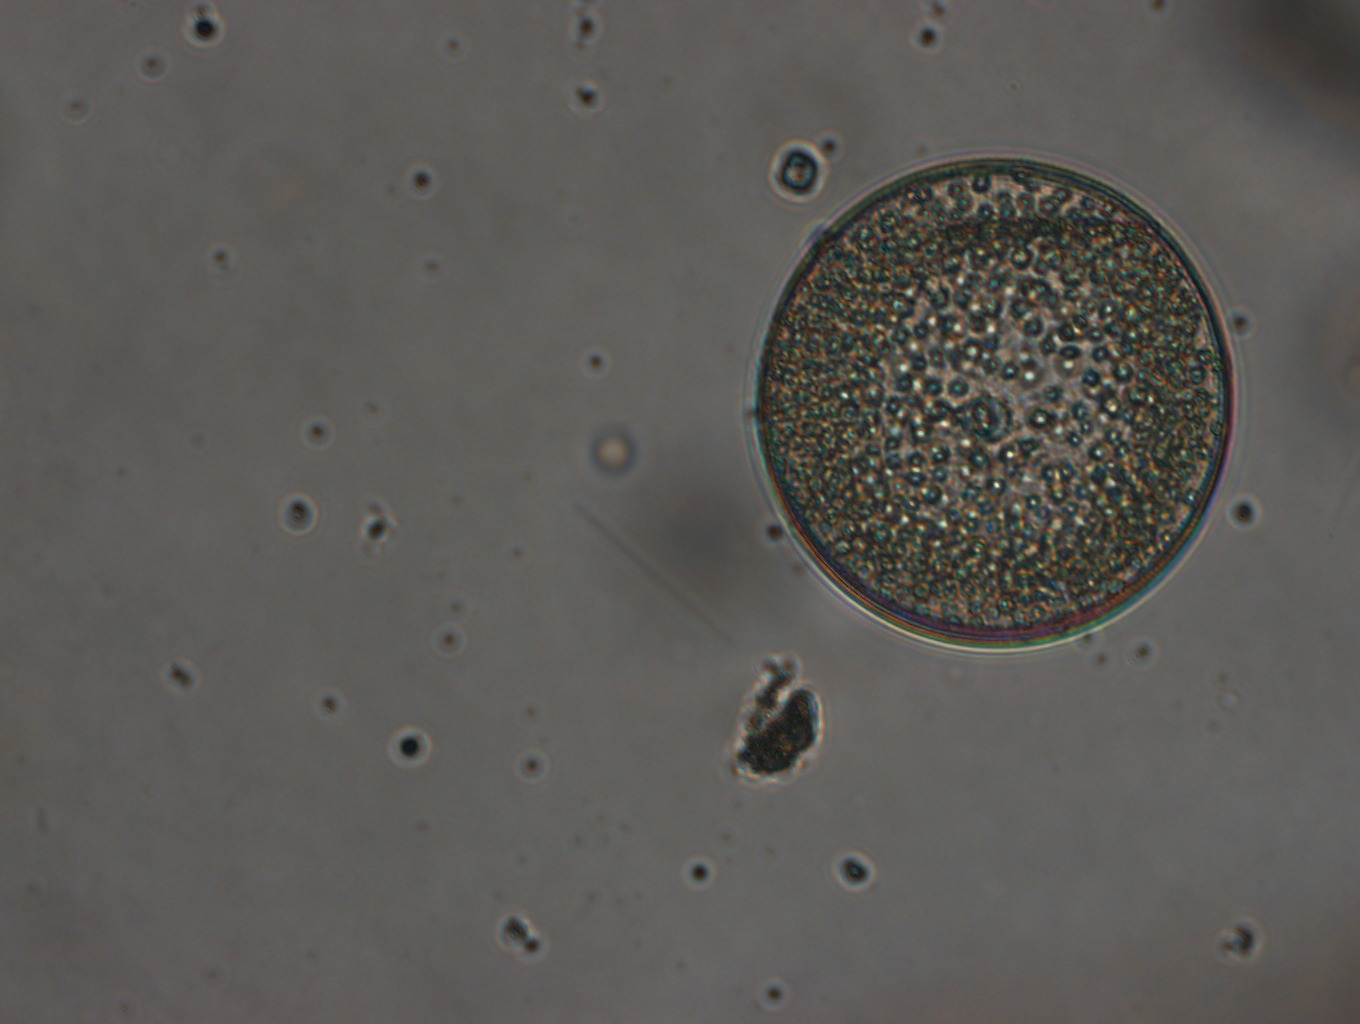coscinodiscus: (740, 152, 1237, 652)
